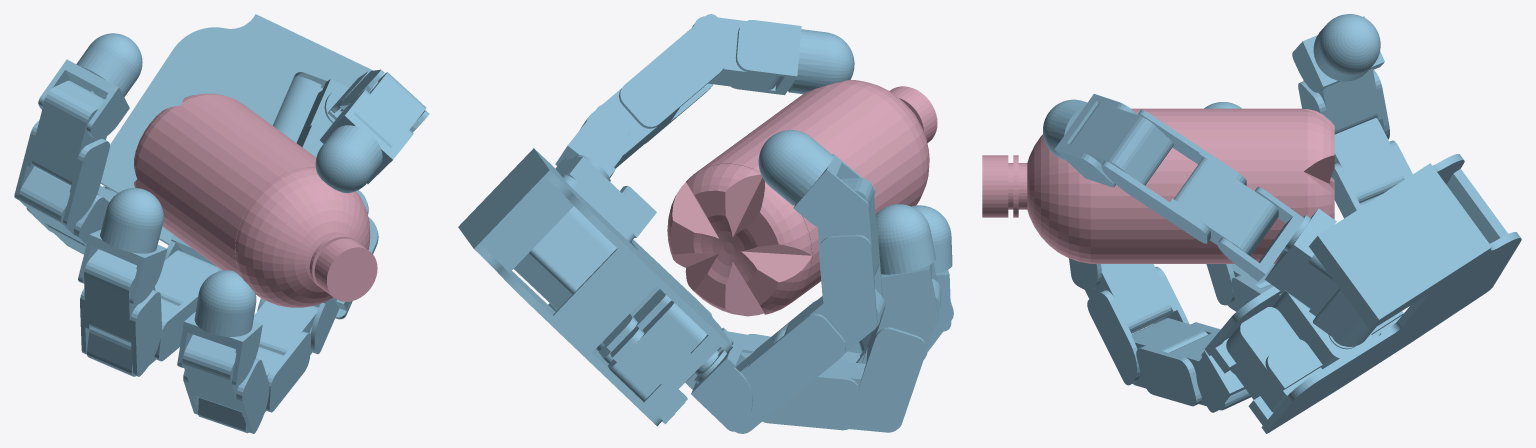
3 renders of one model, left to right at view 1: azimuth 30°, elevation 25°; view 2: azimuth 150°, elevation 25°; view 3: azimuth 270°, elevation 25°, orthographic. The views are drawn at different scales.
Visible parts, largest first — view 1: world, water_bottle.stl; view 2: world, water_bottle.stl; view 3: world, water_bottle.stl.
Part boxes in pixels (x1,y1,x2,y2): world: (14,14,429,433); water_bottle.stl: (134,93,377,307); world: (458,14,953,433); water_bottle.stl: (667,80,937,316); world: (1043,14,1521,433); water_bottle.stl: (982,108,1334,263).
Size of the model in its own units: 0.1784 by 0.1496 by 0.209.
